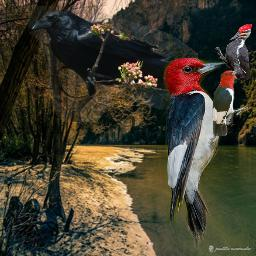Crow: (25, 6, 198, 122)
Woodpecker: (160, 58, 240, 250), (212, 69, 248, 136), (215, 24, 252, 81)
